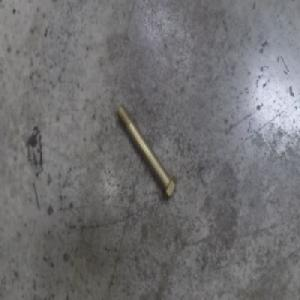Bolt: (116, 102, 178, 202)
